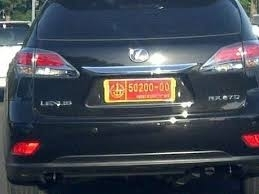plate: (107, 80, 172, 99)
